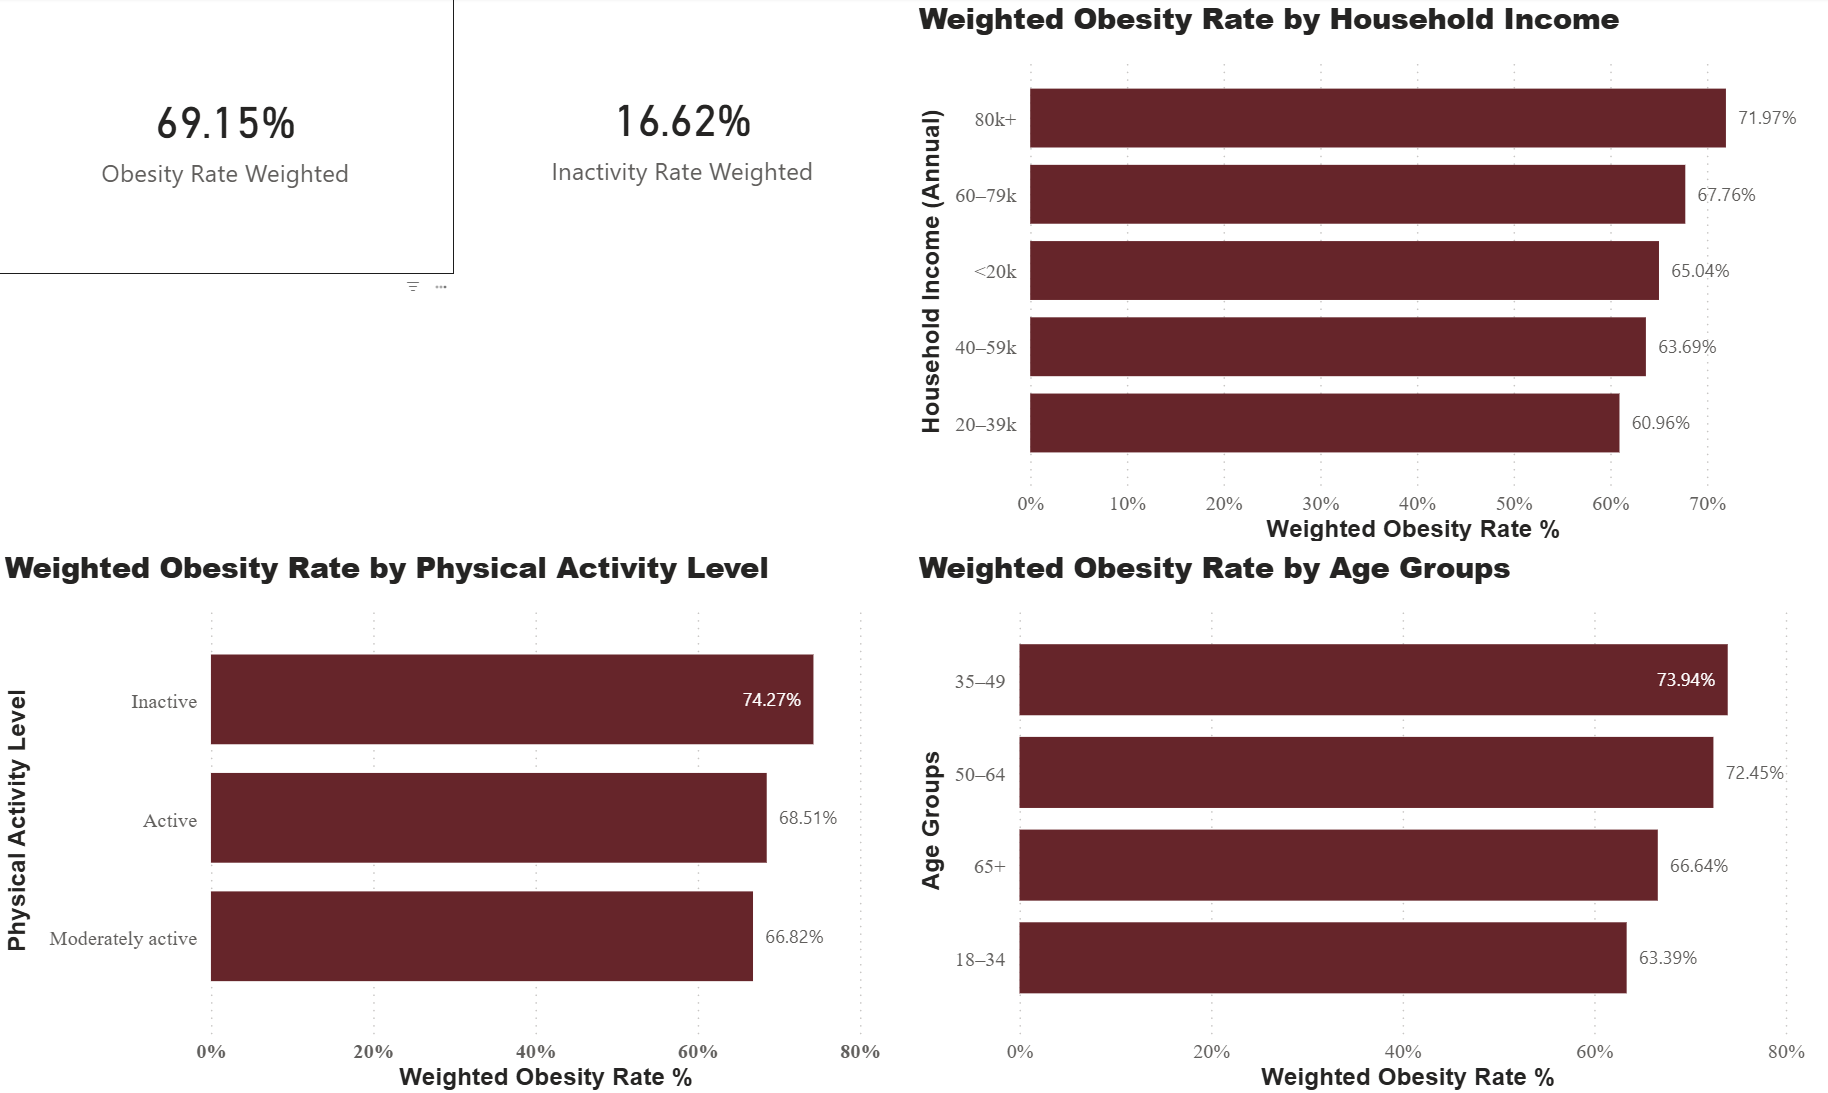

The page's visual inventory and layout, read from the dashboard file:
{"tool":"powerbi","page":{"name":"Page 1","canvas":[1280,720],"ordinal":0},"visuals":[{"type":"clusteredBarChart","title":"Weighted Obesity Rate by Physical Activity Level","fields":{"Category":["cchs_powerbi_respondent.pa_cat"],"Y":["cchs_powerbi_segment_kpis.Obesity Rate Weighted"]},"box":[0,359.2,598.1,361],"z":2000},{"type":"clusteredBarChart","title":"Weighted Obesity Rate by Age Groups","fields":{"Category":["cchs_powerbi_respondent.age_group"],"Y":["cchs_powerbi_segment_kpis.Obesity Rate Weighted"]},"box":[598.1,359.2,598.1,361],"z":3000},{"type":"clusteredBarChart","title":"Weighted Obesity Rate by Household Income","fields":{"Category":["cchs_powerbi_respondent.income"],"Y":["cchs_powerbi_segment_kpis.Obesity Rate Weighted"]},"box":[598,0,598,361.4],"z":3001},{"type":"card","fields":{"Values":["cchs_powerbi_segment_kpis.Obesity Rate Weighted"]},"box":[0,0,299,181],"z":3002},{"type":"card","fields":{"Values":["cchs_powerbi_segment_kpis.Inactivity Rate Weighted"]},"box":[299,0,299,178.7],"z":3003}]}

Visuals, with their boxes on the page's 1280x720 design canvas (x1, y1, x2, y2). These are canvas units, not pixel positions in the 1828x1093 screenshot, which may show the page scaled, cropped or inside an application window:
"Weighted Obesity Rate by Physical Activity Level" clusteredBarChart: <region>0, 359, 598, 720</region>
"Weighted Obesity Rate by Age Groups" clusteredBarChart: <region>598, 359, 1196, 720</region>
"Weighted Obesity Rate by Household Income" clusteredBarChart: <region>598, 0, 1196, 361</region>
card - cchs_powerbi_segment_kpis.Obesity Rate Weighted: <region>0, 0, 299, 181</region>
card - cchs_powerbi_segment_kpis.Inactivity Rate Weighted: <region>299, 0, 598, 179</region>
